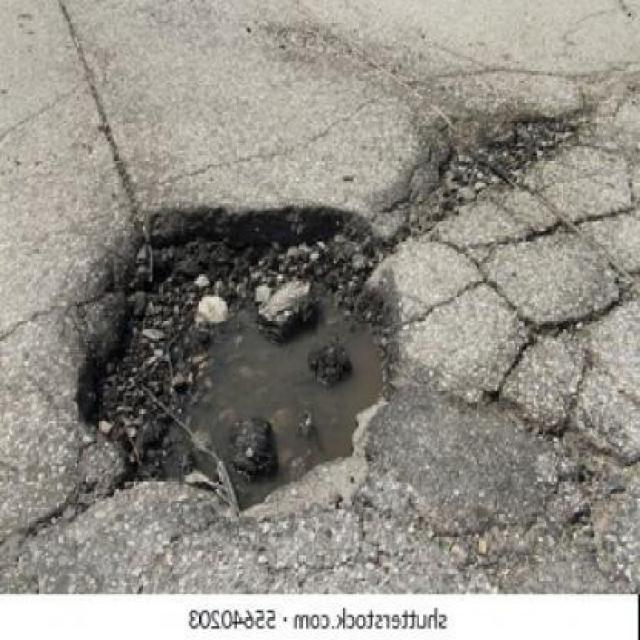pothole: (68, 203, 411, 517), (433, 96, 596, 218)
